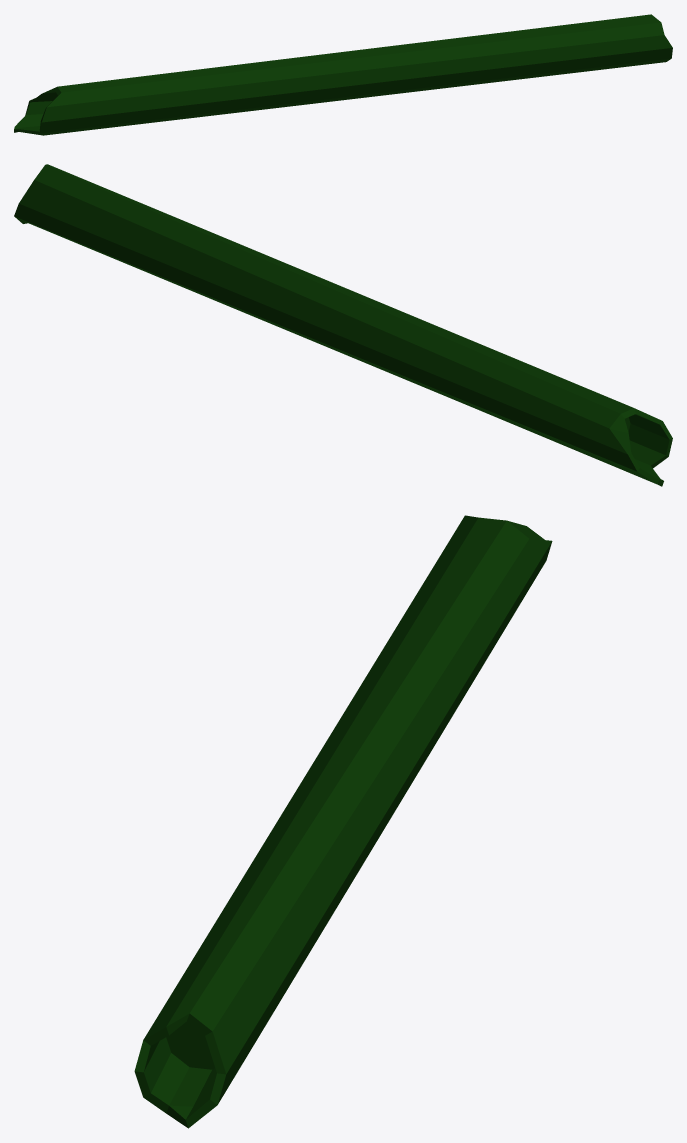
File: BrokenPipe.glb
The picture shows the model from 3 angles, top to bottom: view 1: azimuth 30°, elevation 25°; view 2: azimuth 150°, elevation 25°; view 3: azimuth 270°, elevation 25°; orthographic projection. The views are drawn at different scales.
Visible parts, largest first — view 1: Broken pipe; view 2: Broken pipe; view 3: Broken pipe.
Boxes of the visible parts, x1,y1,x2,y2 form: Broken pipe: (14, 14, 672, 135); Broken pipe: (14, 164, 672, 486); Broken pipe: (134, 515, 552, 1128).
Size of the model in its own units: 19.18 by 1.58 by 6.09.
1 material, 1 textured.
